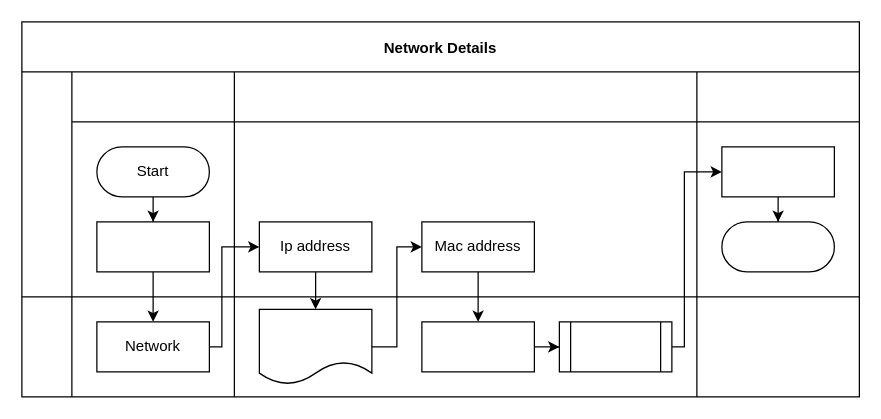
Image size: 881x419. Some labels were removed from this diagram. The shapes that lost their labels are listed below. From the top down, each one's centre as x and y in pixels, then its label:
At point 152,246: "Find".
At point 315,346: "Architecure".
